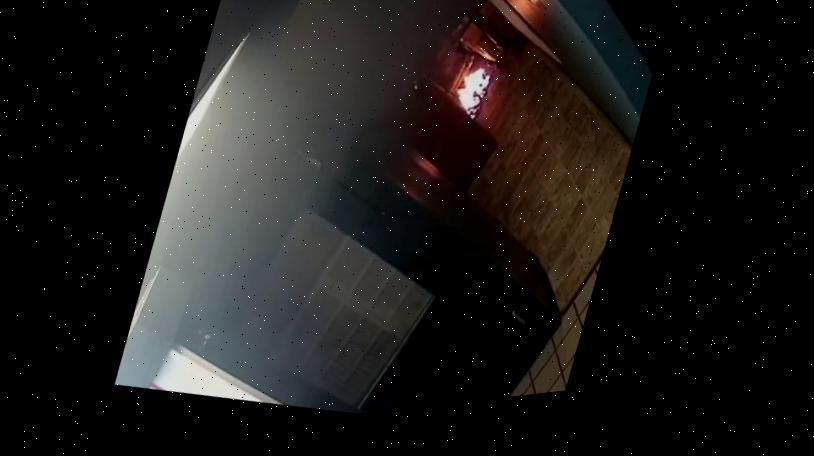fire: (431, 46, 504, 129)
